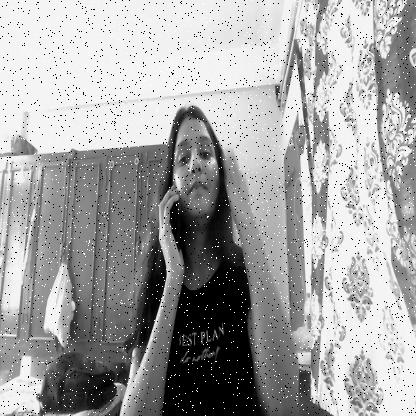Normal: (168, 107, 224, 231)
